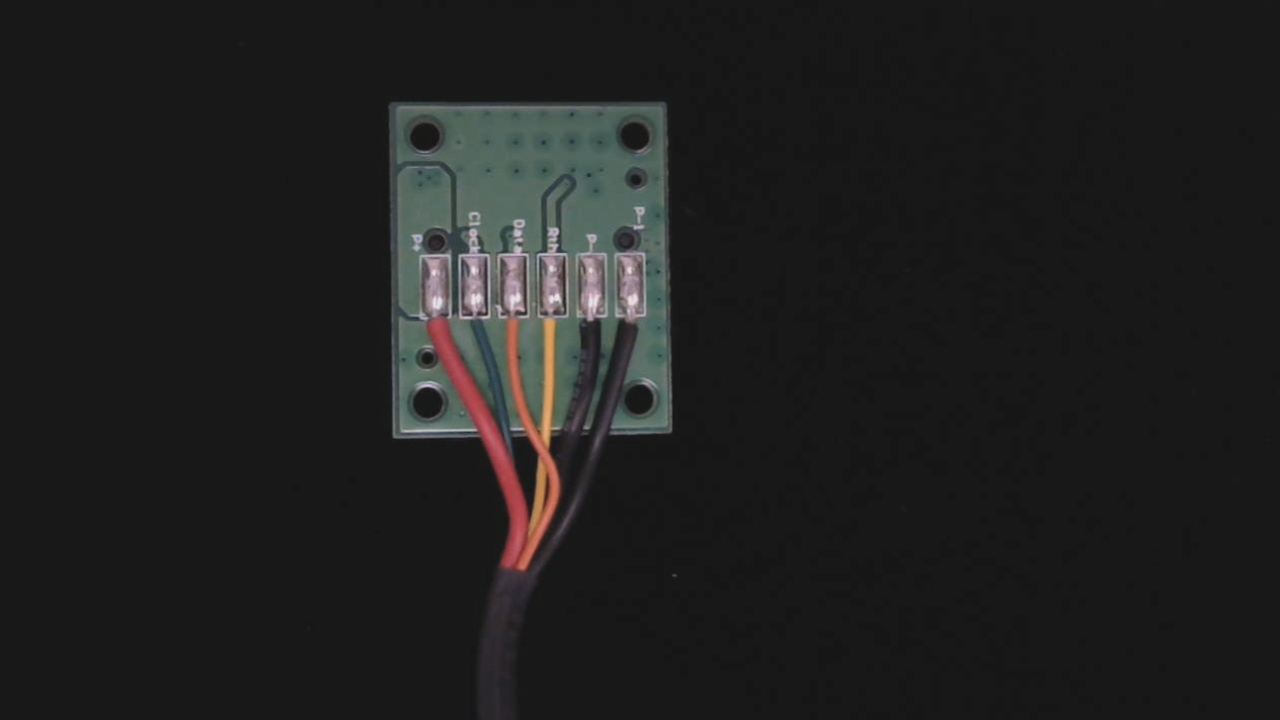Black: (587, 298, 625, 364)
Black1: (631, 299, 664, 356)
Green: (470, 296, 507, 355)
Orange: (508, 295, 543, 358)
Red: (427, 301, 464, 362)
Yellow: (547, 298, 582, 362)
